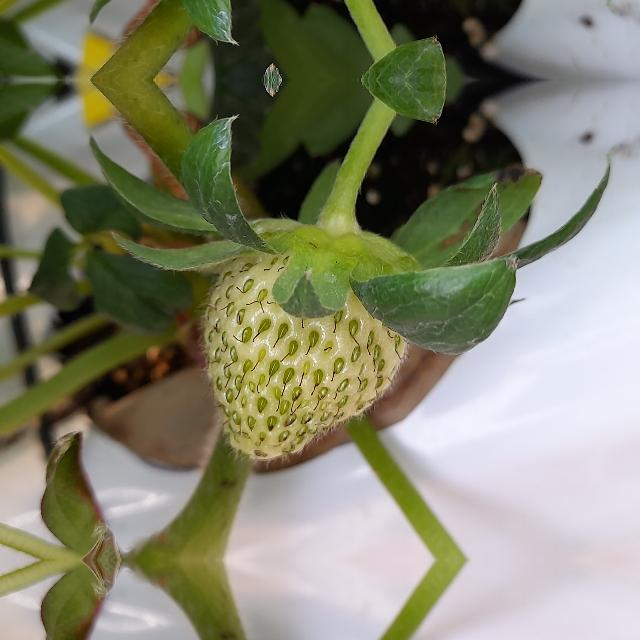Health_25: (197, 251, 411, 463)
